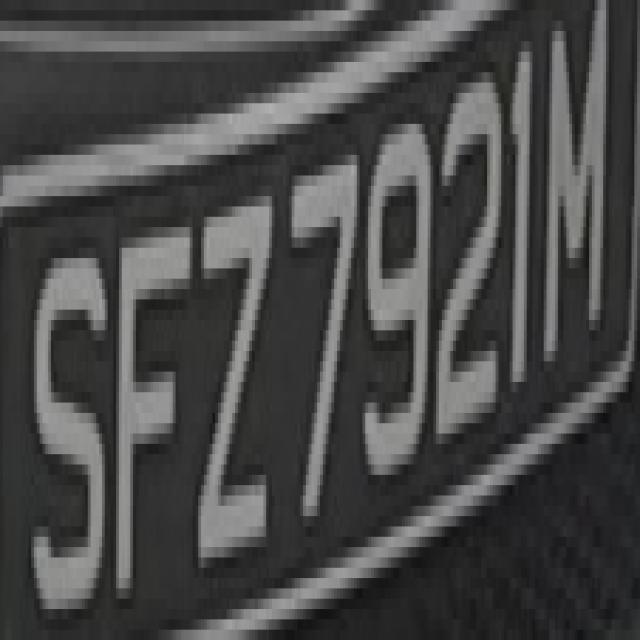1: (510, 11, 538, 433)
2: (436, 72, 510, 496)
7: (286, 135, 360, 558)
9: (360, 93, 433, 506)
F: (110, 176, 192, 588)
M: (541, 11, 612, 362)
S: (26, 227, 110, 619)
Z: (190, 155, 280, 578)
